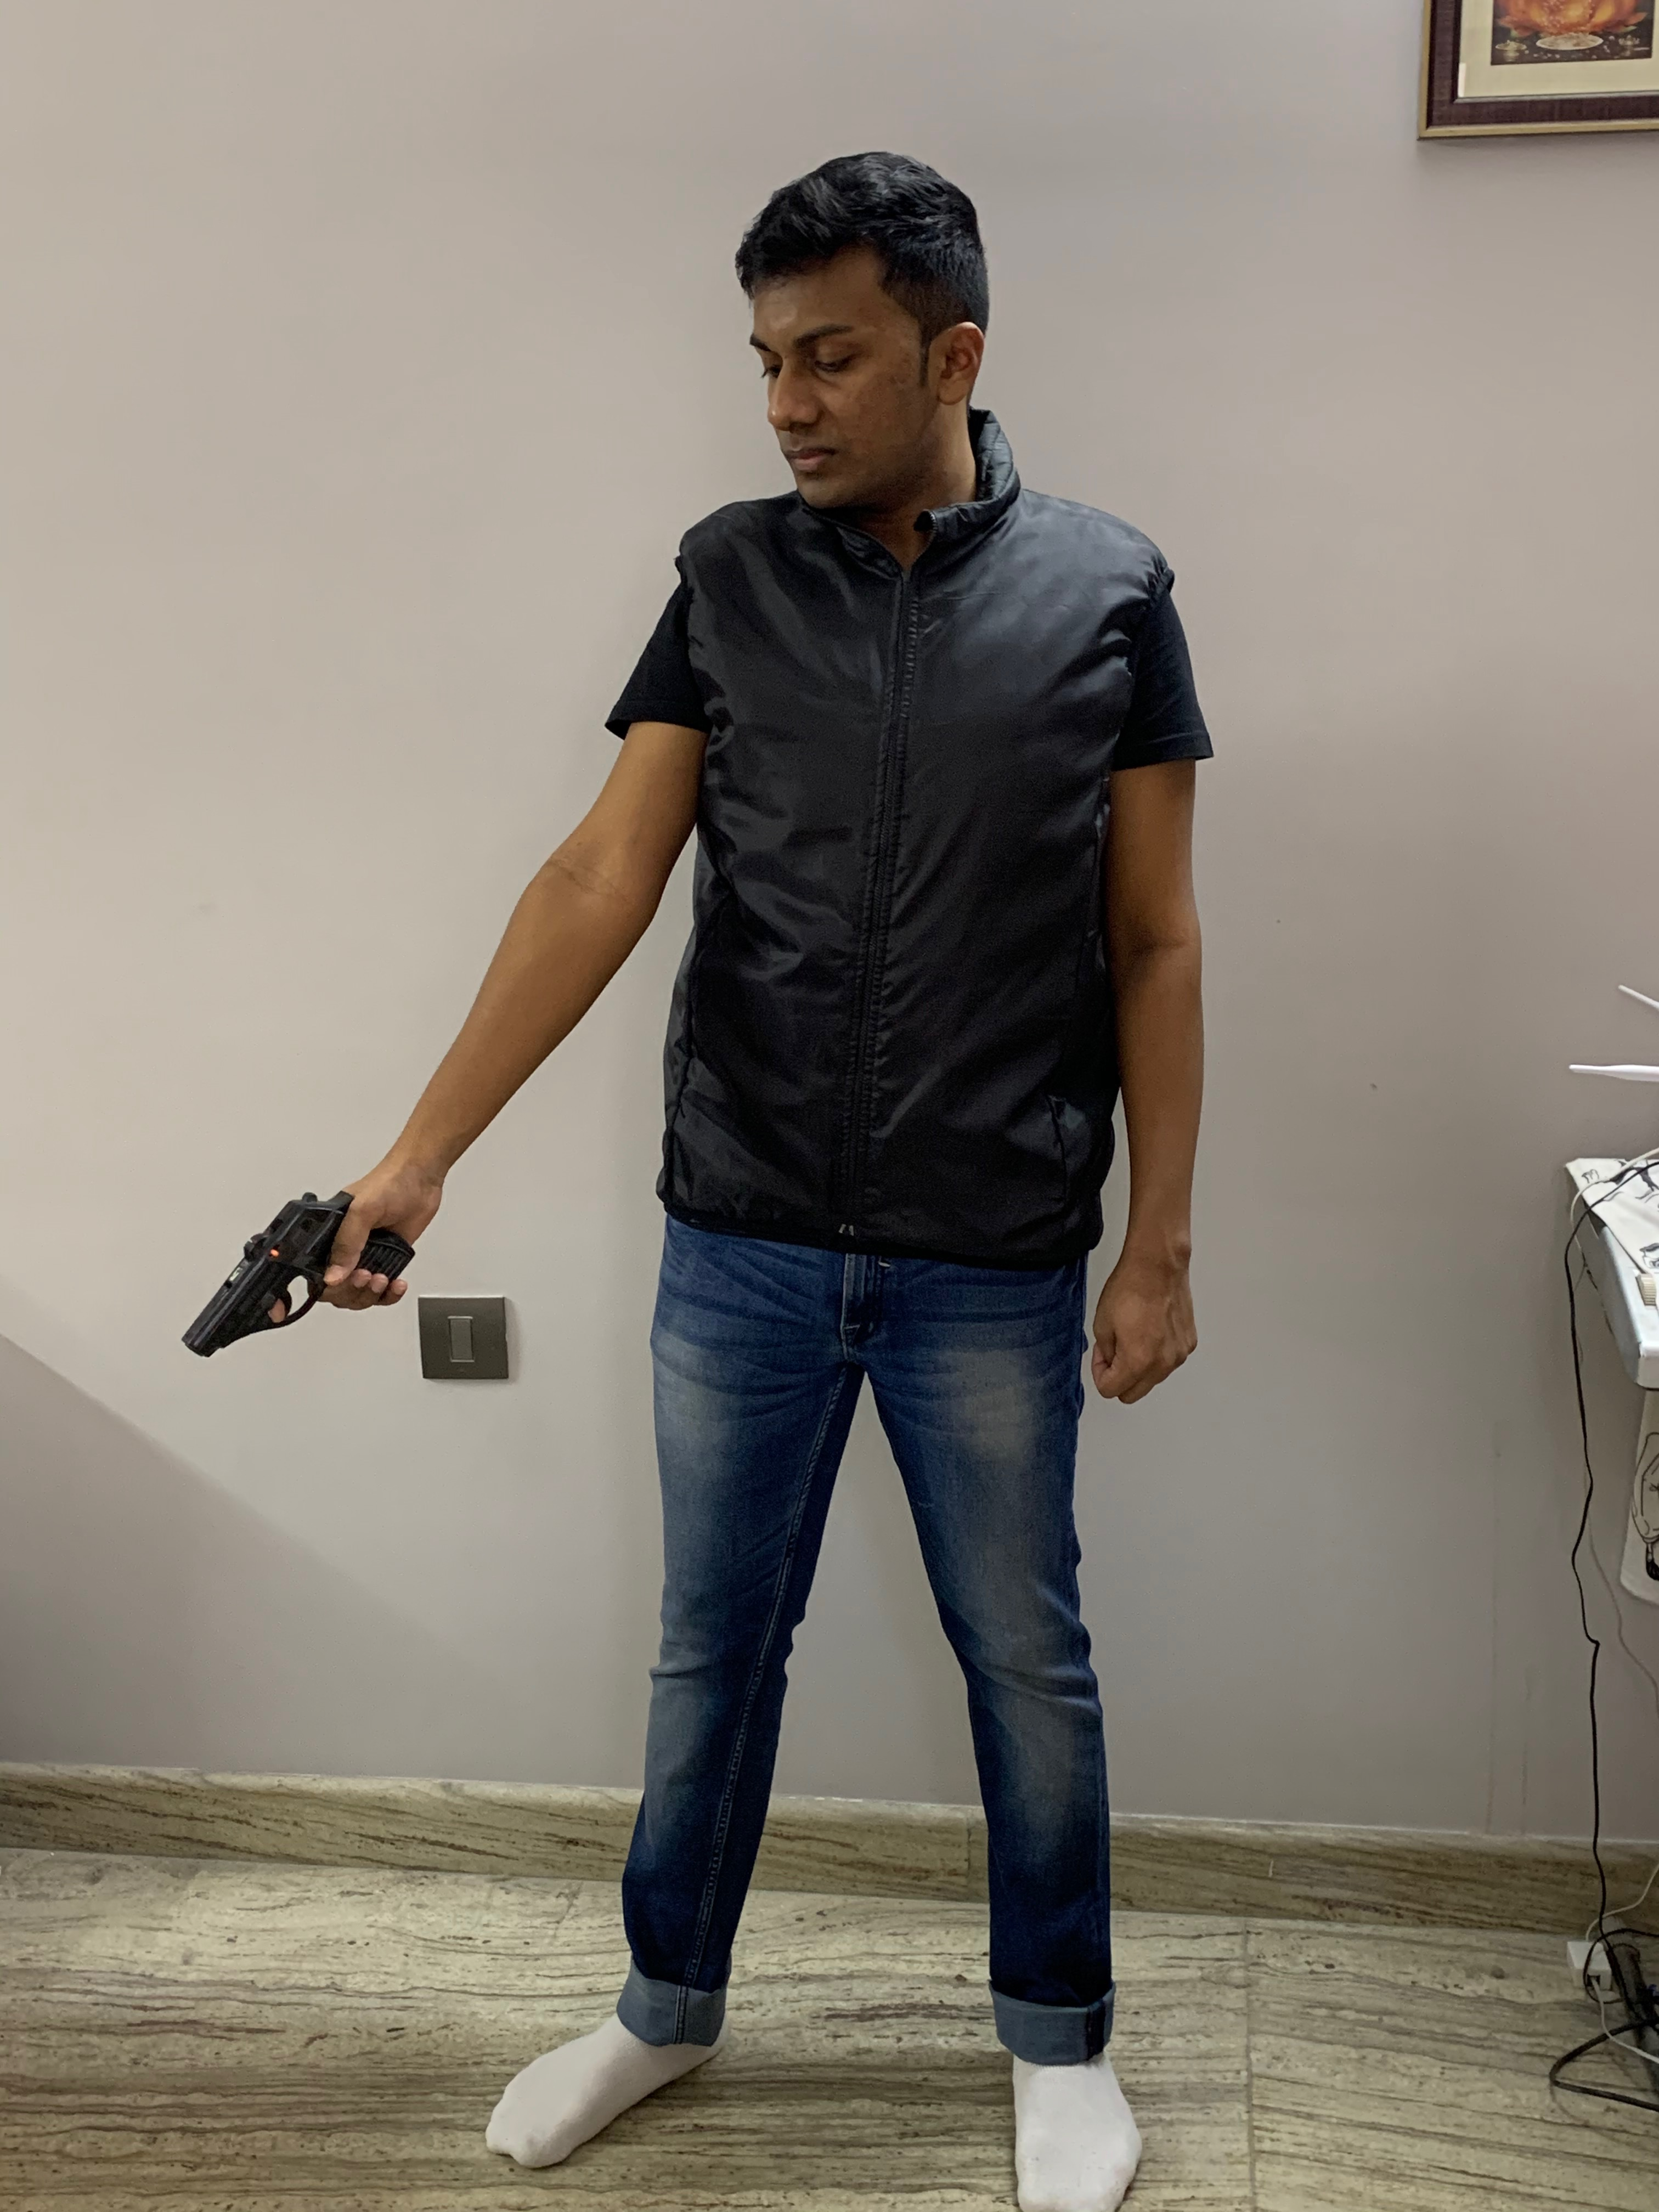gun: (181, 1184, 416, 1378)
